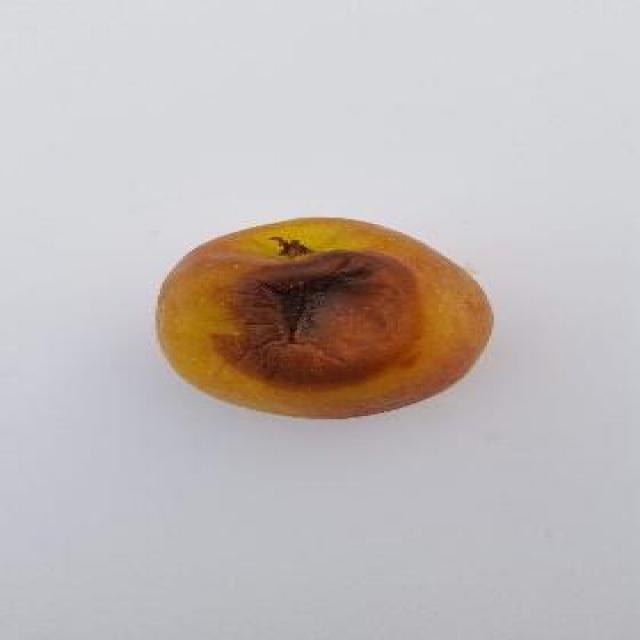rotten_apple: (150, 210, 495, 428)
